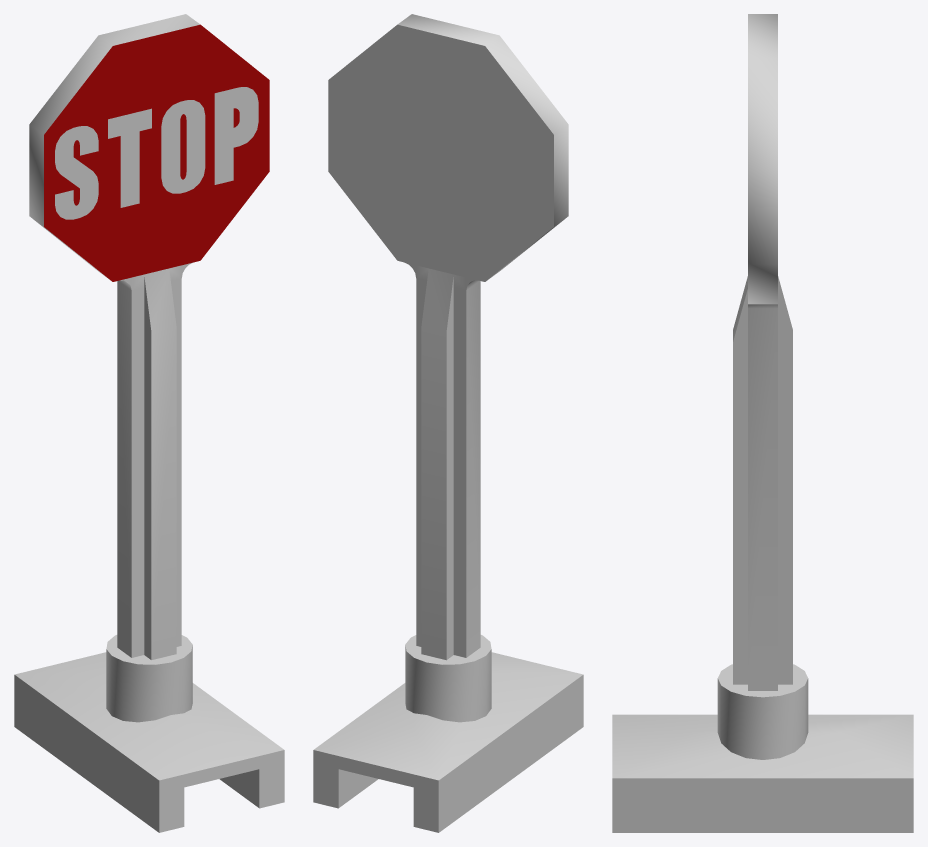
Rendered from StopSign.fbx.
3 views of the same model, side by side, from view 1: azimuth 30°, elevation 25°; view 2: azimuth 150°, elevation 25°; view 3: azimuth 270°, elevation 25° (orthographic). The views are drawn at different scales.
Parts seen in each view (by area): view 1: Piece611; view 2: Piece611; view 3: Piece611.
Boxes of the visible parts, <box> form: Piece611: <box>14,14,284,832</box>; Piece611: <box>313,14,583,832</box>; Piece611: <box>612,14,913,832</box>.
Bounding box in the file's own units: 3600 × 11200 × 4000.
